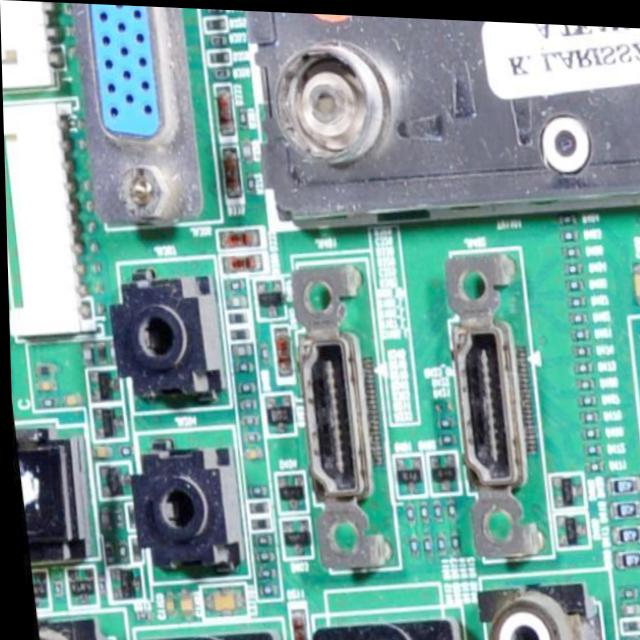capacitor: (630, 253, 640, 303), (34, 378, 56, 392), (62, 392, 82, 407), (241, 445, 260, 460), (231, 341, 250, 355), (91, 446, 109, 460), (243, 135, 253, 160), (227, 293, 247, 305)
connector: (2, 97, 99, 341), (0, 0, 67, 95)
resistor: (175, 590, 192, 618), (437, 429, 456, 444), (239, 429, 259, 443), (434, 396, 452, 411), (239, 412, 258, 426), (579, 404, 598, 418), (582, 437, 601, 451), (223, 276, 245, 288), (254, 564, 274, 577), (255, 581, 275, 594), (162, 591, 172, 617), (34, 363, 54, 376), (417, 496, 428, 519), (258, 340, 269, 363), (252, 531, 270, 545), (564, 257, 582, 271), (571, 322, 589, 336), (559, 225, 578, 238), (38, 395, 57, 408), (247, 483, 266, 496), (253, 549, 273, 561), (447, 526, 457, 550), (562, 241, 579, 255), (581, 421, 598, 435), (571, 340, 590, 352), (568, 290, 585, 303), (235, 359, 252, 372), (574, 355, 591, 368), (239, 396, 256, 409), (116, 444, 133, 457), (584, 456, 601, 469), (434, 530, 444, 552), (407, 533, 417, 555), (558, 208, 576, 220), (569, 306, 585, 319), (420, 529, 429, 552), (566, 274, 583, 286), (237, 380, 254, 392), (575, 374, 592, 386), (577, 389, 594, 401), (51, 576, 60, 598), (239, 105, 248, 127), (95, 573, 103, 597), (437, 413, 453, 425), (431, 497, 440, 518), (132, 609, 149, 620), (445, 496, 453, 518), (246, 170, 254, 192), (211, 33, 228, 43), (404, 501, 412, 521), (216, 66, 231, 76), (207, 7, 224, 12)
transistor: (260, 388, 293, 435), (425, 447, 458, 492), (547, 467, 585, 506), (88, 401, 125, 441), (95, 460, 132, 500), (84, 364, 122, 402), (550, 507, 587, 546), (63, 566, 95, 610), (253, 274, 285, 318), (392, 450, 423, 495), (275, 469, 305, 509), (107, 566, 140, 602), (280, 517, 310, 556), (29, 570, 48, 612)
